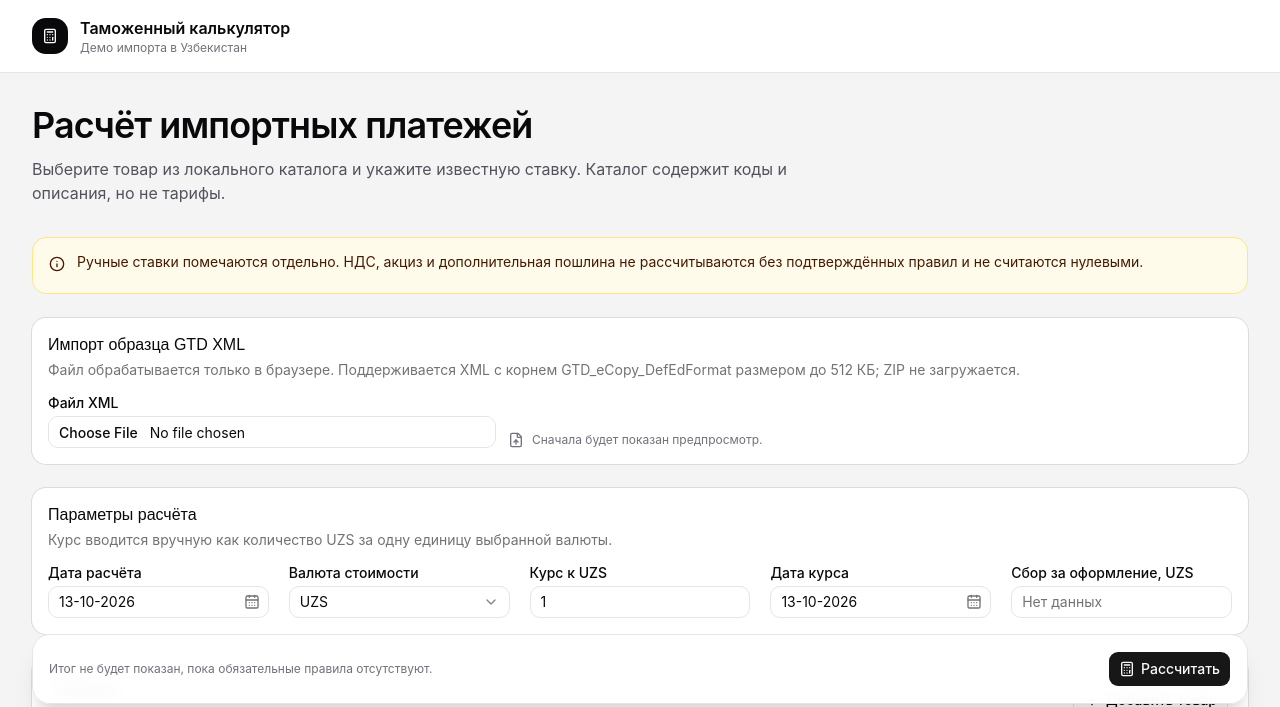
it: calculator page › formats monetary inputs with grouped digits and a comma separator
The width and height of the screenshot is (1280, 707).
In the field labelled "Курс к UZS": (640, 602) x1=530 y1=586 x2=750 y2=618, type "1400000.25"
(page scrolled)
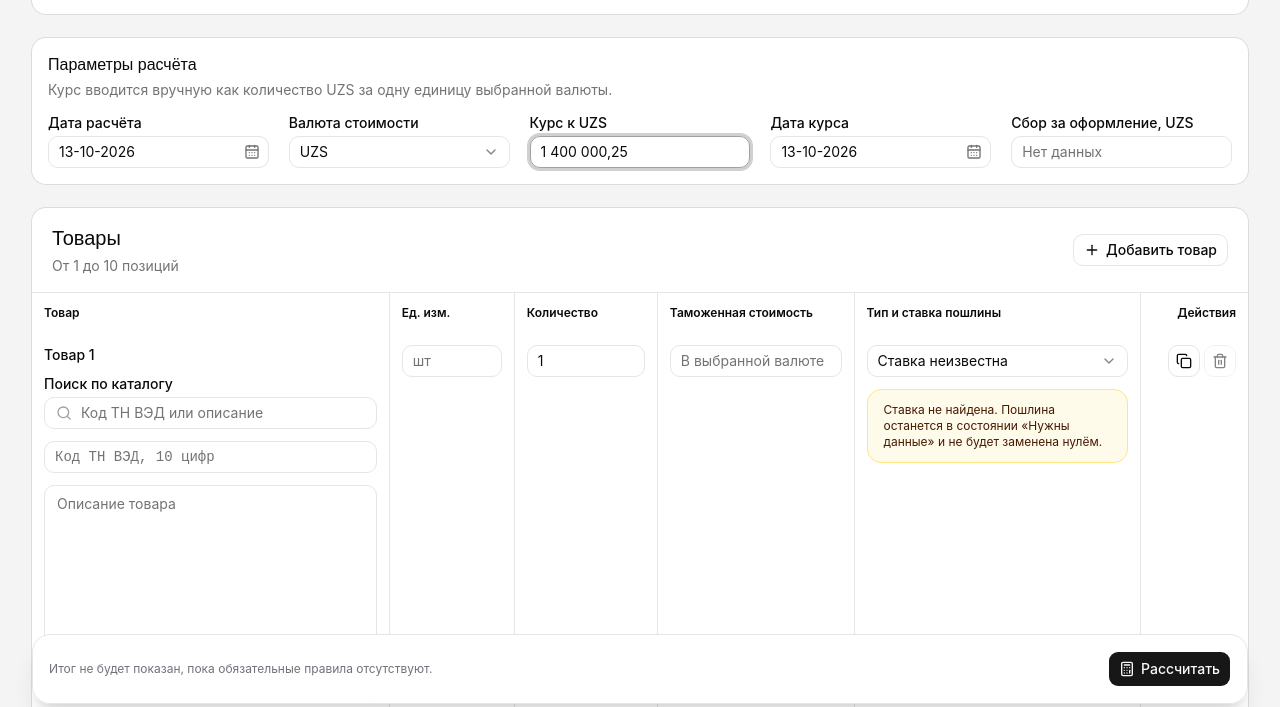
Check: the field labelled "Курс к UZS" holds "1 400 000,25", box x1=530 y1=136 x2=750 y2=168
In the field named "Таможенная стоимость": (756, 361) x1=670 y1=345 x2=842 y2=377, type "100000000.000"
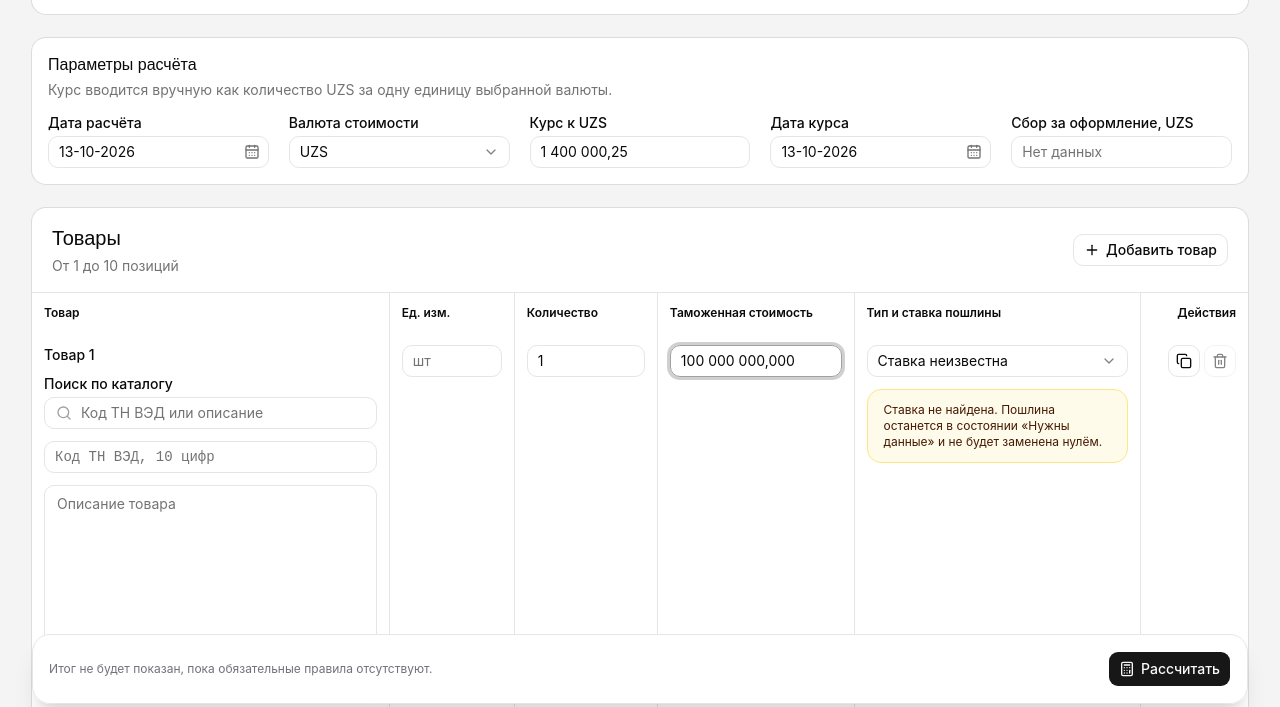
Check: the 2nd field named "Таможенная стоимость" holds "100 000 000,000", box x1=670 y1=345 x2=842 y2=377
